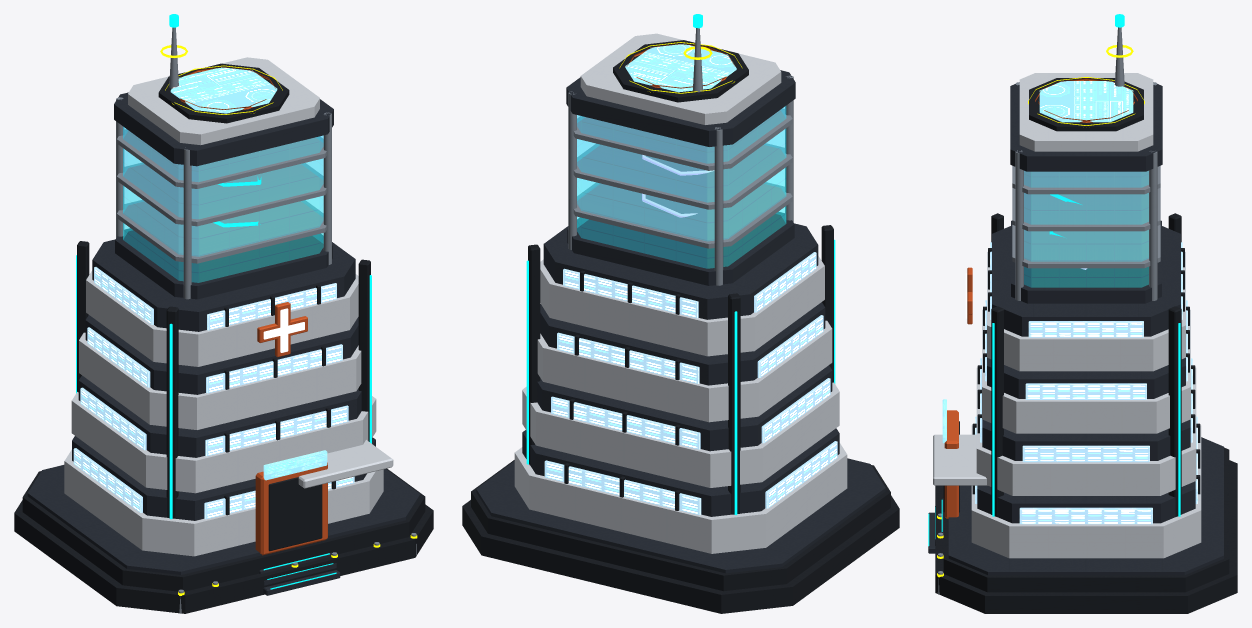
File: bldg_04_r1_01.glb
3 views of the same model, side by side, from view 1: azimuth 30°, elevation 25°; view 2: azimuth 150°, elevation 25°; view 3: azimuth 270°, elevation 25° (orthographic). The views are drawn at different scales.
Visible parts, largest first — view 1: Bldg04_C01_aero_white, Bldg04_C01_carbon_slate, Bldg04_C01_gunmetal, Bldg04_C01_steel_machined, Bldg04_C01_glass_cyan, Bldg04_C01_window_lit, Bldg04_C01_marquee, Bldg04_C01_accent_orange, Bldg04_C01_led_cyan, Bldg04_C01_led_ice, Bldg04_C01_led_amber; view 2: Bldg04_C01_aero_white, Bldg04_C01_carbon_slate, Bldg04_C01_gunmetal, Bldg04_C01_steel_machined, Bldg04_C01_glass_cyan, Bldg04_C01_window_lit, Bldg04_C01_marquee, Bldg04_C01_led_cyan; view 3: Bldg04_C01_aero_white, Bldg04_C01_carbon_slate, Bldg04_C01_gunmetal, Bldg04_C01_steel_machined, Bldg04_C01_glass_cyan, Bldg04_C01_window_lit, Bldg04_C01_marquee, Bldg04_C01_accent_orange, Bldg04_C01_led_cyan, Bldg04_C01_led_amber.
Boxes of the visible parts, x1,y1,x2,y2 form: Bldg04_C01_aero_white: [64, 57, 393, 556]; Bldg04_C01_carbon_slate: [27, 92, 420, 595]; Bldg04_C01_gunmetal: [14, 63, 433, 613]; Bldg04_C01_steel_machined: [116, 27, 416, 613]; Bldg04_C01_glass_cyan: [123, 126, 323, 282]; Bldg04_C01_window_lit: [73, 267, 354, 519]; Bldg04_C01_marquee: [170, 67, 327, 480]; Bldg04_C01_accent_orange: [172, 67, 327, 555]; Bldg04_C01_led_cyan: [76, 14, 371, 589]; Bldg04_C01_led_ice: [263, 308, 304, 352]; Bldg04_C01_led_amber: [160, 45, 417, 595]; Bldg04_C01_aero_white: [514, 33, 847, 553]; Bldg04_C01_carbon_slate: [476, 70, 885, 573]; Bldg04_C01_gunmetal: [462, 40, 899, 613]; Bldg04_C01_steel_machined: [568, 28, 793, 285]; Bldg04_C01_glass_cyan: [577, 106, 786, 268]; Bldg04_C01_window_lit: [544, 252, 837, 515]; Bldg04_C01_marquee: [625, 43, 736, 92]; Bldg04_C01_led_cyan: [526, 14, 835, 515]; Bldg04_C01_aero_white: [933, 73, 1201, 558]; Bldg04_C01_carbon_slate: [928, 84, 1223, 575]; Bldg04_C01_gunmetal: [935, 78, 1237, 613]; Bldg04_C01_steel_machined: [937, 27, 1160, 594]; Bldg04_C01_glass_cyan: [1024, 171, 1148, 287]; Bldg04_C01_window_lit: [975, 242, 1197, 524]; Bldg04_C01_marquee: [942, 81, 1133, 443]; Bldg04_C01_accent_orange: [944, 78, 1137, 518]; Bldg04_C01_led_cyan: [928, 14, 1180, 546]; Bldg04_C01_led_amber: [937, 45, 1144, 577].
Size of the model in its own units: 12 by 18.42 by 10.23.
Materials: 12 (12 with a texture image).
